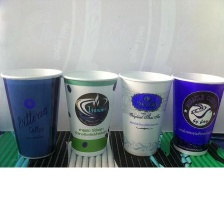paper_cup: (0, 63, 64, 163), (59, 66, 120, 158), (116, 67, 173, 158), (169, 67, 224, 158)
